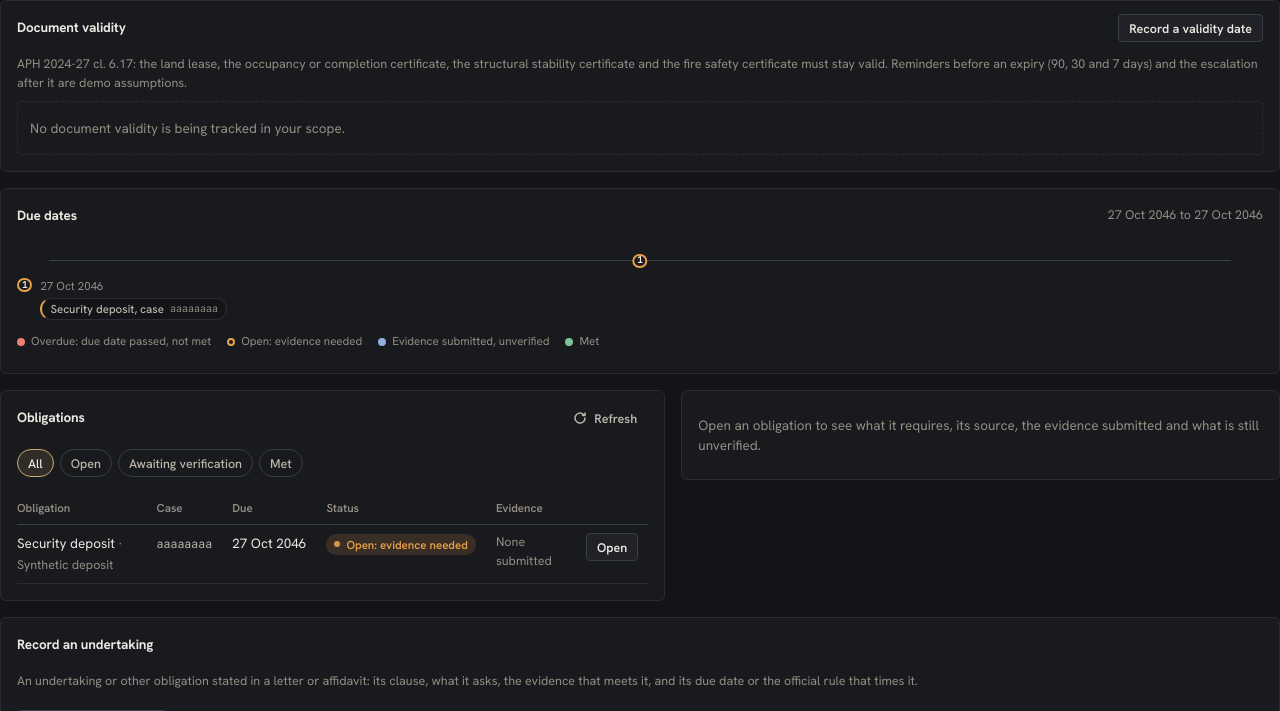
Test: recorded undertakings › shows what a recorded obligation asks for and the penalty notes, never as applied
Click the button with aria-label "Open security deposit for case": coordinates (612, 547) [586,533,638,561]
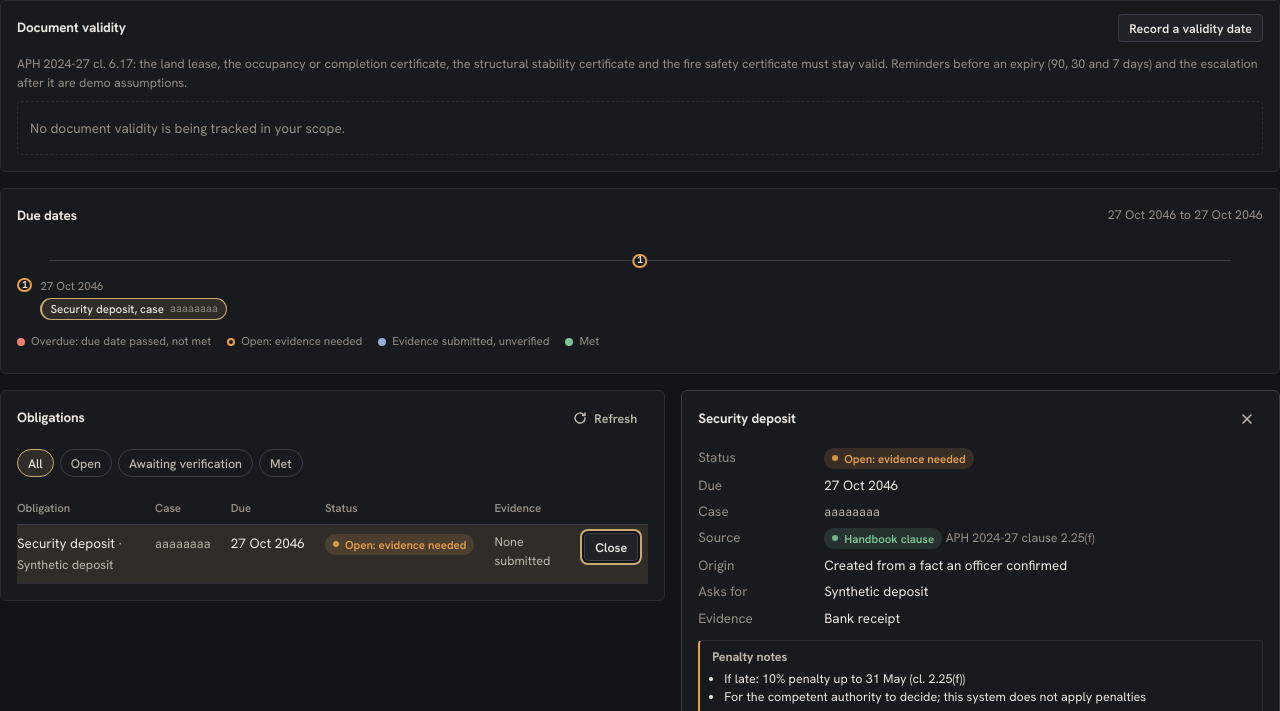
Expected: the list item "If late: 10% penalty up to 31 May (cl. 2.25(f))" is shown, [724,670,965,687]
Expected: the list item "does not apply penalties" is shown, [724,688,1146,705]
Expected: the text "Synthetic deposit" is shown, [824,582,928,600]
